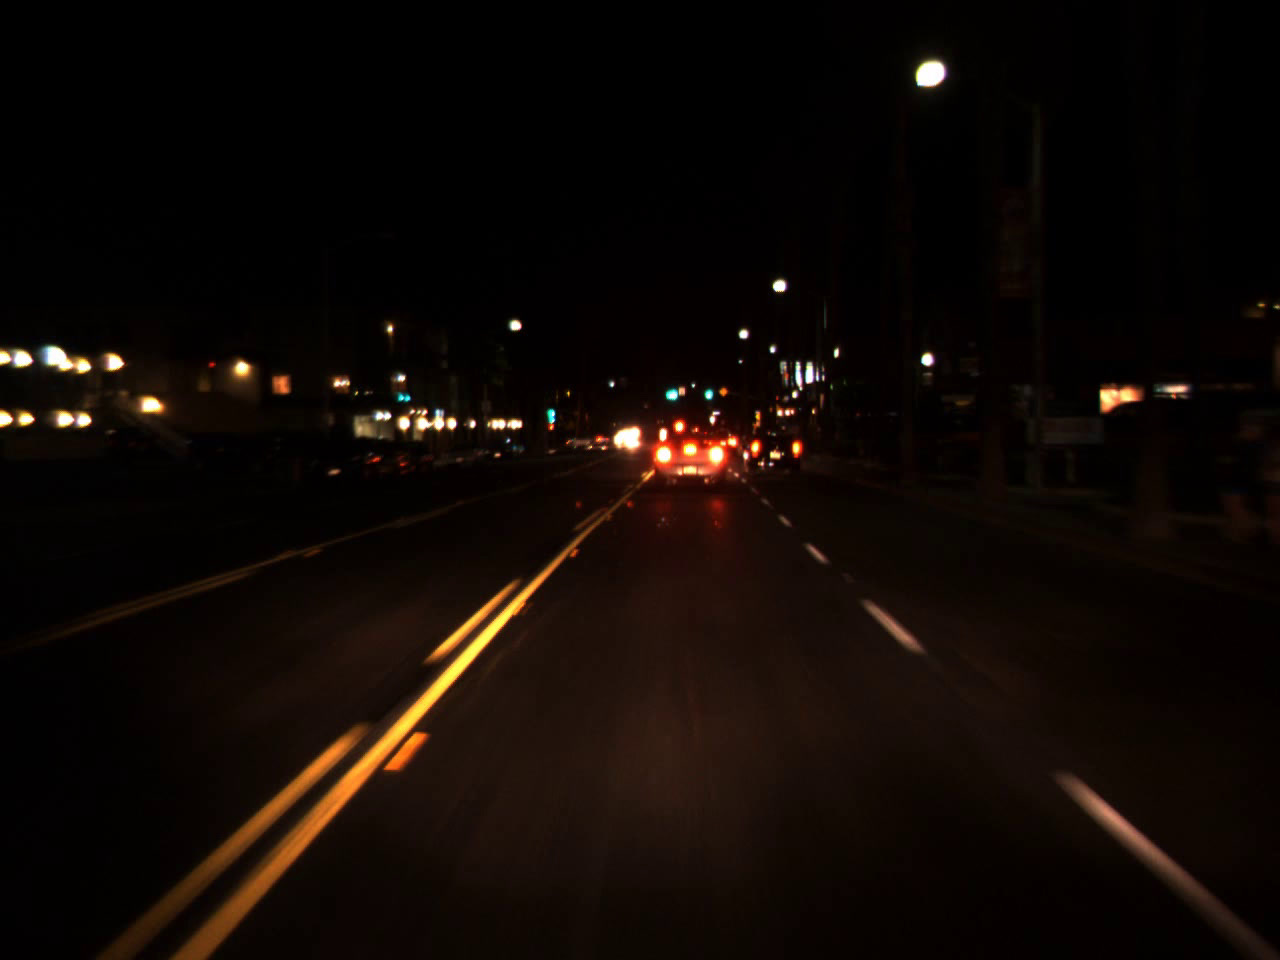go: (660, 375, 679, 405), (545, 396, 555, 423), (703, 379, 713, 403)
